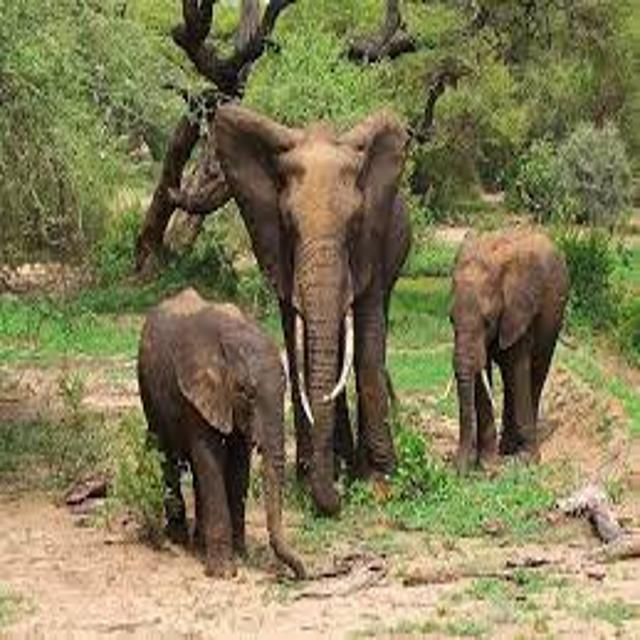Elephant: (205, 105, 423, 510), (114, 270, 316, 590), (442, 218, 574, 470)
